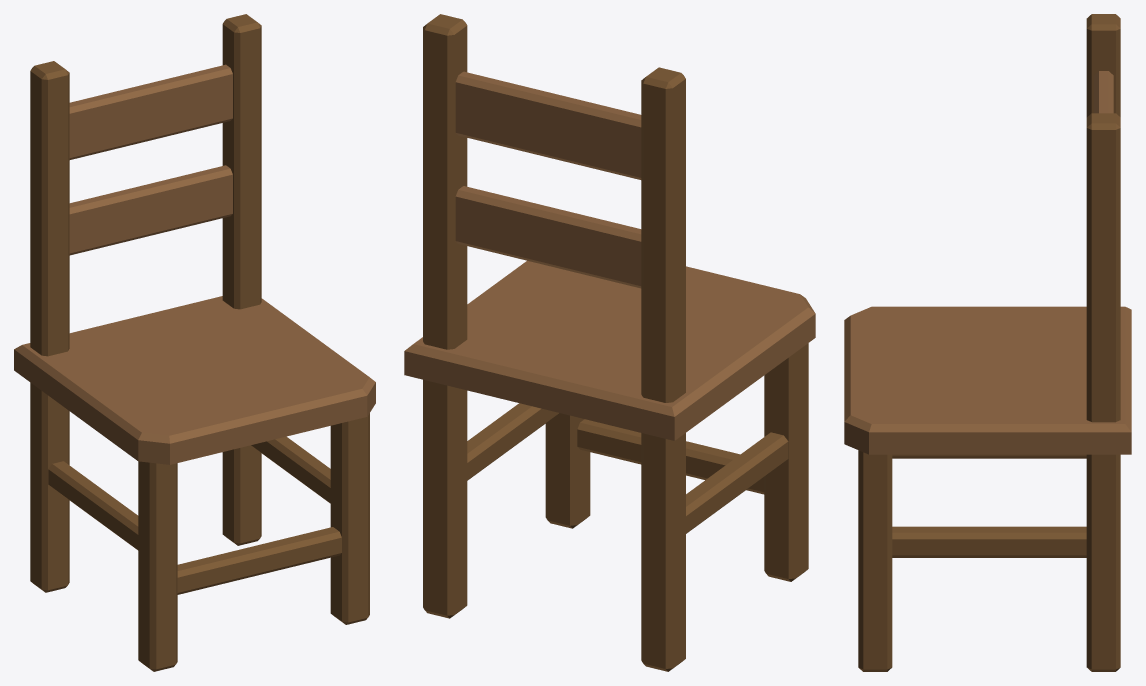
The model's file is mdvl_interiors_chair_01.glb.
The picture shows the model from 3 angles, left to right: view 1: azimuth 30°, elevation 25°; view 2: azimuth 150°, elevation 25°; view 3: azimuth 270°, elevation 25°; orthographic projection. The views are drawn at different scales.
Visible parts, largest first — view 1: mdvl_interiors_chair_01; view 2: mdvl_interiors_chair_01; view 3: mdvl_interiors_chair_01.
Boxes of the visible parts, x1,y1,x2,y2 form: mdvl_interiors_chair_01: (14, 14, 375, 671); mdvl_interiors_chair_01: (404, 14, 815, 671); mdvl_interiors_chair_01: (844, 14, 1131, 671).
Bounding box in the file's own units: 0.47 × 0.98 × 0.465.
Materials: 1 (1 with a texture image).
